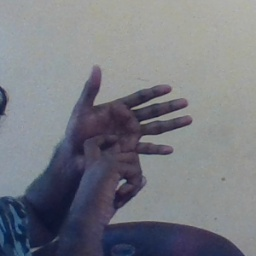R: (54, 61, 197, 212)
